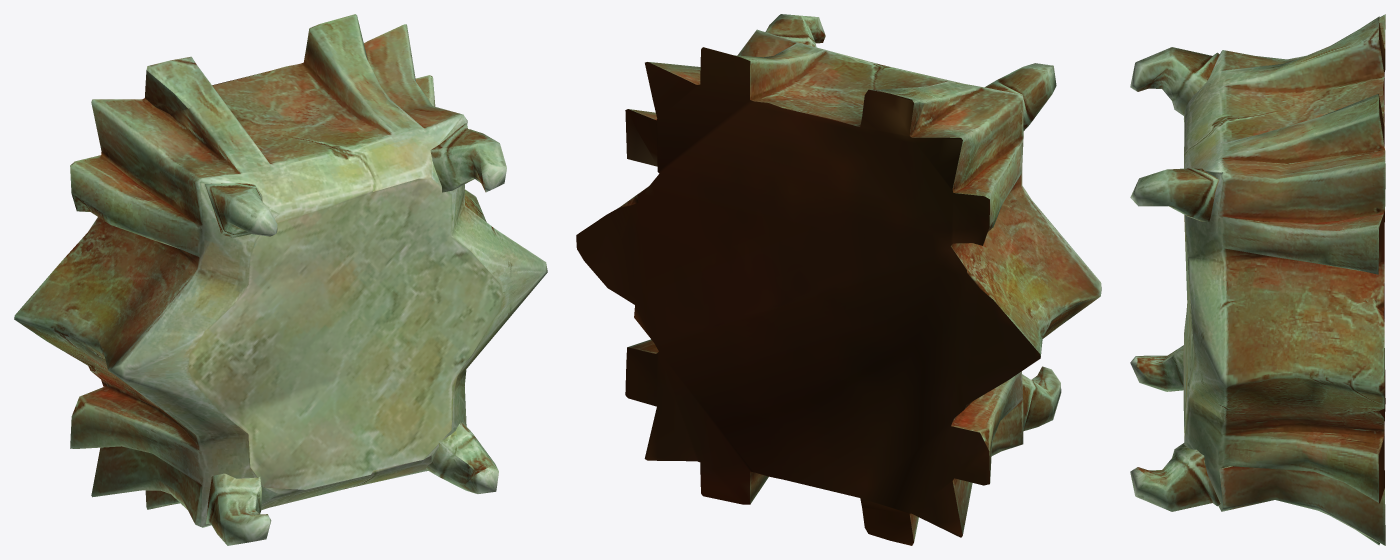
The model's file is Ruins_Collumn_Base.fbx.
The picture shows the model from 3 angles, left to right: view 1: azimuth 30°, elevation 25°; view 2: azimuth 150°, elevation 25°; view 3: azimuth 270°, elevation 25°; orthographic projection. The views are drawn at different scales.
Parts seen in each view (by area): view 1: Ruins_Collumn_Base; view 2: Ruins_Collumn_Base; view 3: Ruins_Collumn_Base.
Part boxes in pixels (x1,y1,x2,y2): Ruins_Collumn_Base: (14, 14, 547, 545); Ruins_Collumn_Base: (576, 14, 1101, 545); Ruins_Collumn_Base: (1130, 14, 1385, 545).
Size of the model in its own units: 590 by 542 by 291.
